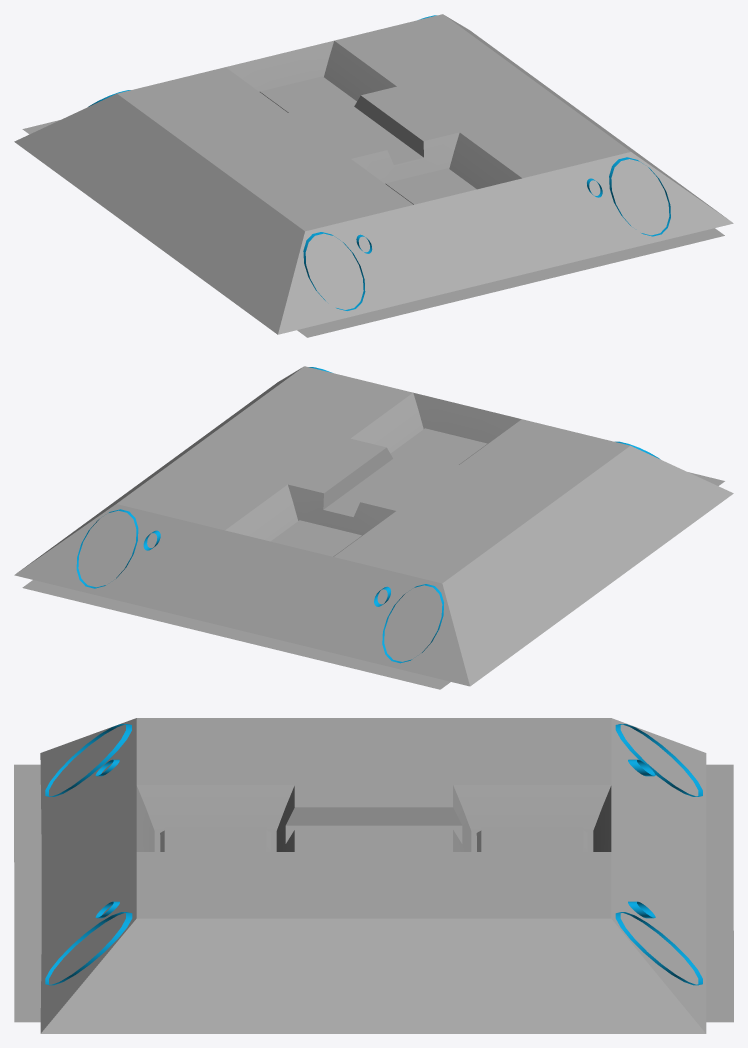
Rendered from HallwayStraightCeiling.fbx.
3 views of the same model, one above another, from view 1: azimuth 30°, elevation 25°; view 2: azimuth 150°, elevation 25°; view 3: azimuth 270°, elevation 25° (orthographic). The views are drawn at different scales.
Visible parts, largest first — view 1: HallwayCeiling; view 2: HallwayCeiling; view 3: HallwayCeiling.
Part boxes in pixels (<box>): HallwayCeiling: <box>14,14,733,337</box>; HallwayCeiling: <box>14,366,733,689</box>; HallwayCeiling: <box>14,718,733,1033</box>.
Bounding box in the file's own units: 732 × 107 × 792.
